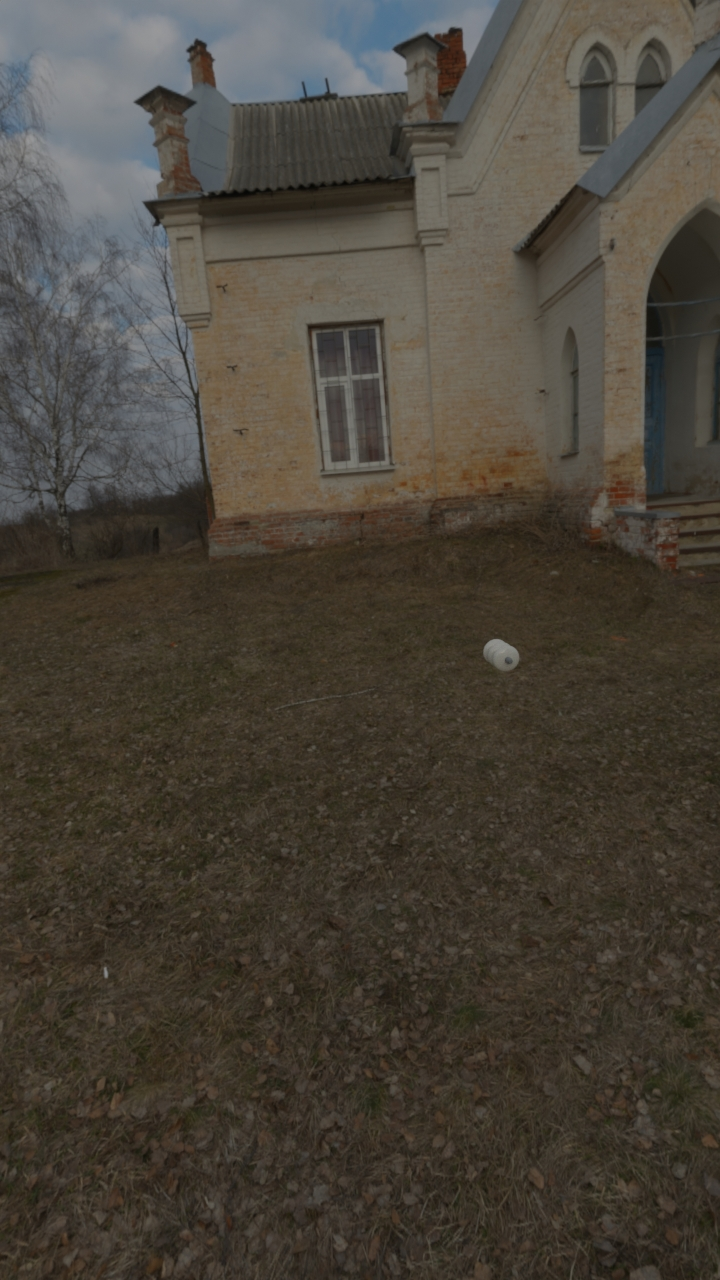ceramicinsulators: (483, 639, 519, 672)
